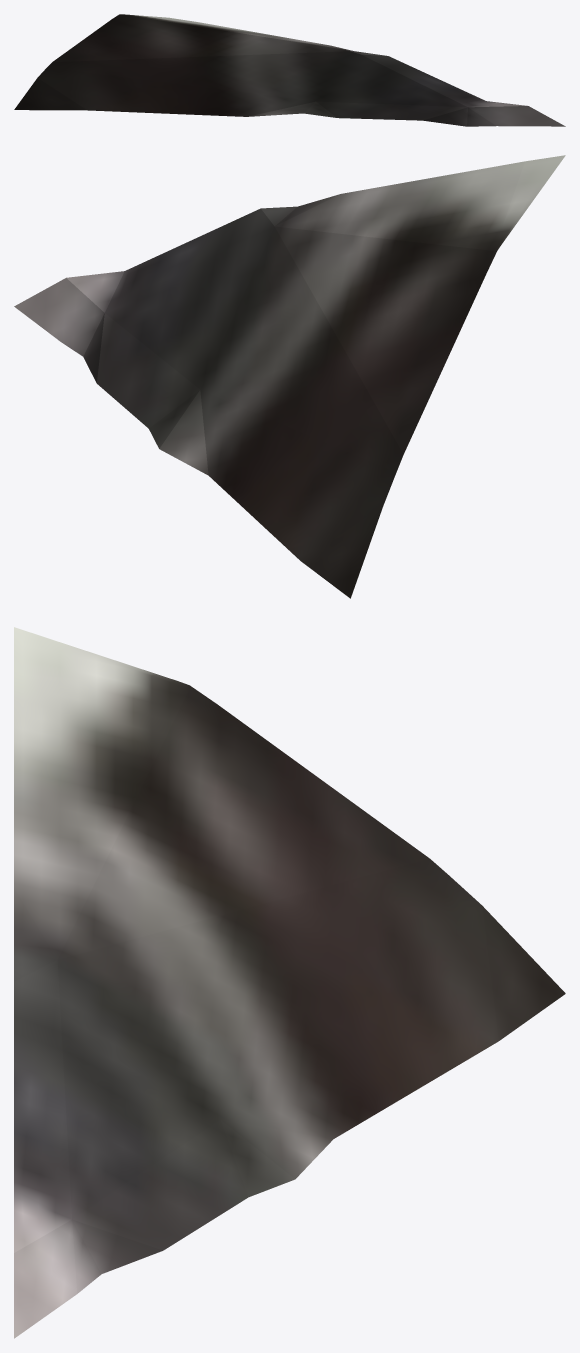
3 renders of one model, top to bottom at view 1: azimuth 30°, elevation 25°; view 2: azimuth 150°, elevation 25°; view 3: azimuth 270°, elevation 25°, orthographic. The views are drawn at different scales.
Size of the model in its own units: 0.2721 by 0.1347 by 0.1838.
1 material, 1 textured.
